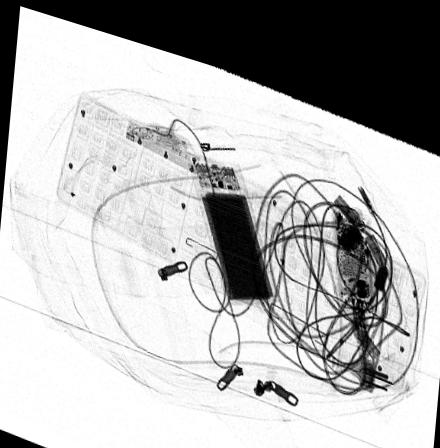Powerbank: (187, 146, 275, 288)
